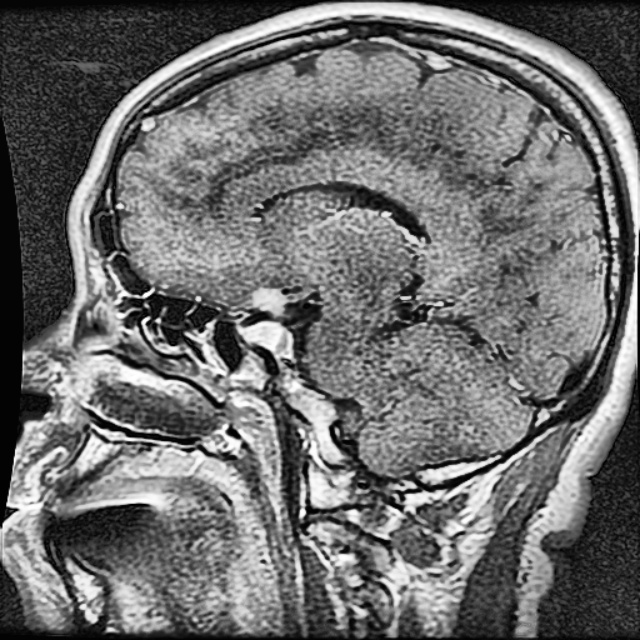Pituitary: (238, 320, 294, 357)
